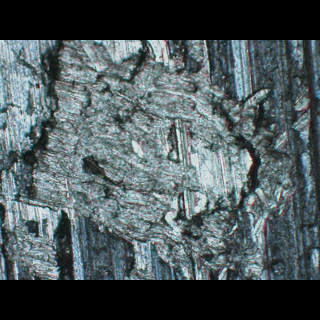d: (1, 40, 315, 277)
